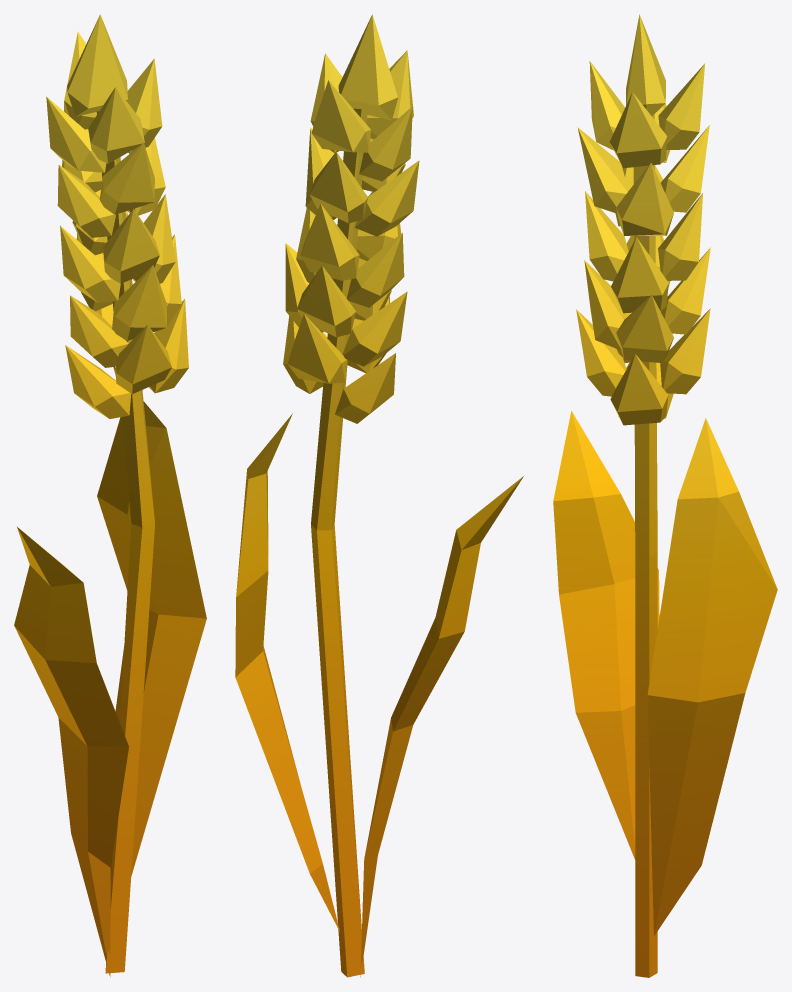
The model's file is Flower_Wheat_04.fbx.
3 views of the same model, side by side, from view 1: azimuth 30°, elevation 25°; view 2: azimuth 150°, elevation 25°; view 3: azimuth 270°, elevation 25° (orthographic).
Parts seen in each view (by area): view 1: Flower_Wheat_04; view 2: Flower_Wheat_04; view 3: Flower_Wheat_04.
Part boxes in pixels (x1,y1,x2,y2): Flower_Wheat_04: [14, 14, 206, 976]; Flower_Wheat_04: [235, 14, 523, 977]; Flower_Wheat_04: [553, 14, 777, 977].
Bounding box in the file's own units: 19.01 × 76.85 × 16.35.
